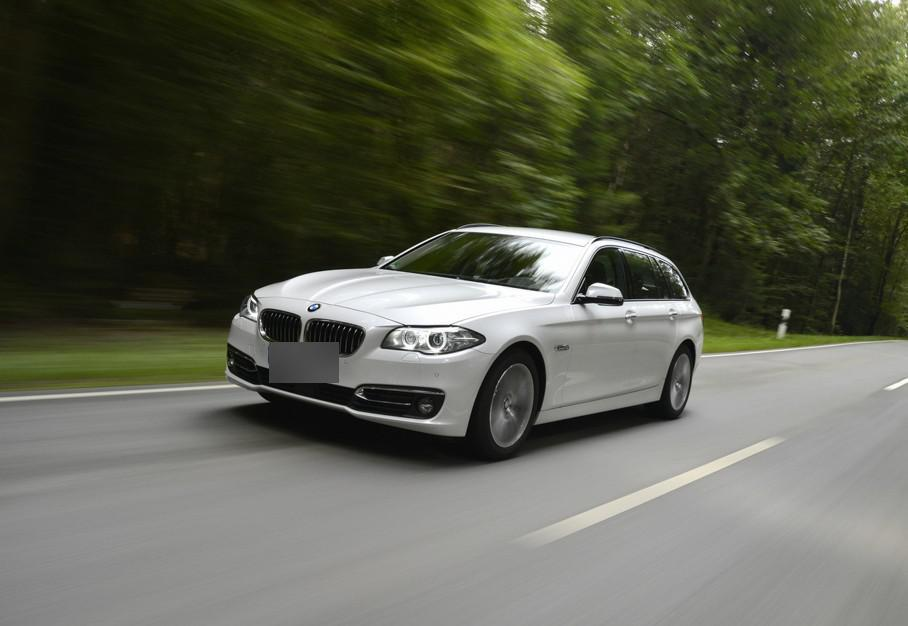Wagon: (226, 221, 706, 463)
